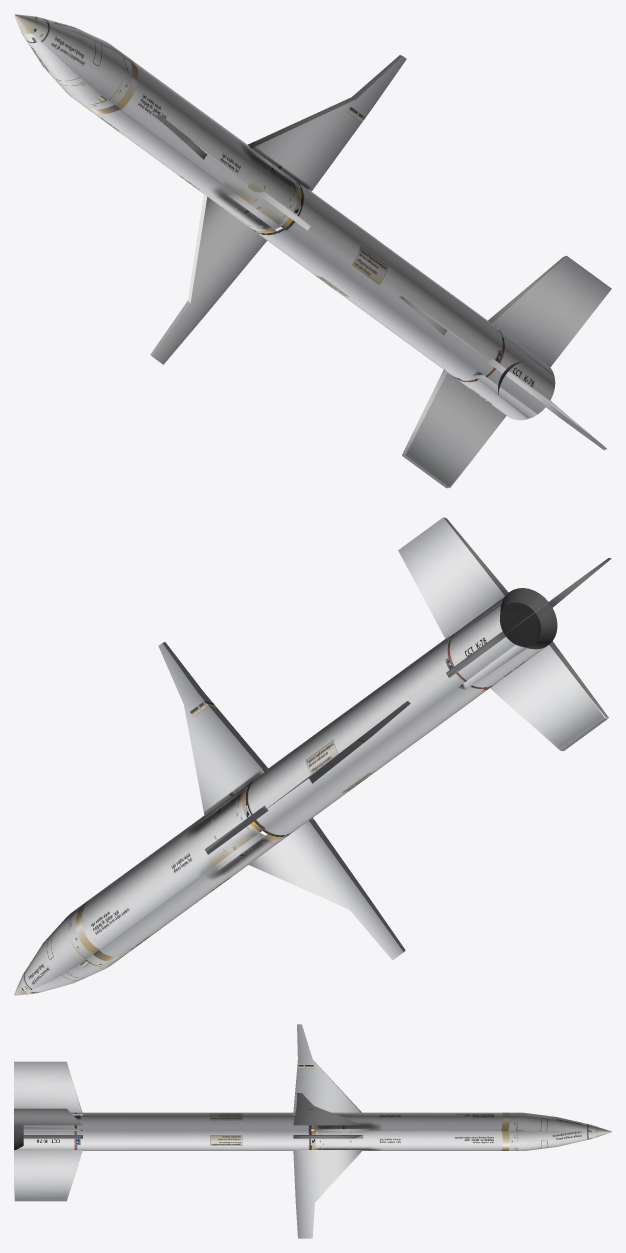
File: AGM88 (1).gltf
3 renders of one model, top to bottom at view 1: azimuth 30°, elevation 25°; view 2: azimuth 150°, elevation 25°; view 3: azimuth 270°, elevation 25°, orthographic. The views are drawn at different scales.
Visible parts, largest first — view 1: AGM88; view 2: AGM88; view 3: AGM88.
Part boxes in pixels (x1,y1,x2,y2): AGM88: [14, 14, 611, 488]; AGM88: [14, 517, 611, 995]; AGM88: [14, 1024, 611, 1238].
Size of the model in its own units: 563 by 543 by 2018.
1 material, 1 textured.
